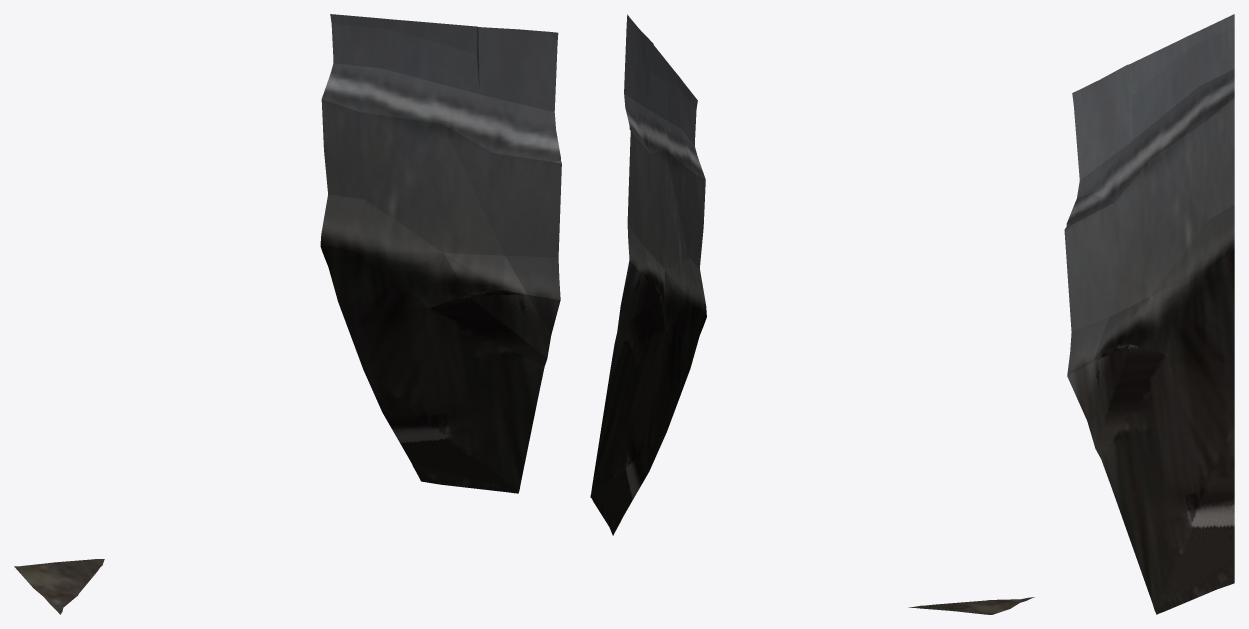
3 renders of one model, left to right at view 1: azimuth 30°, elevation 25°; view 2: azimuth 150°, elevation 25°; view 3: azimuth 270°, elevation 25°, orthographic. The views are drawn at different scales.
Size of the model in its own units: 0.8374 by 0.8373 by 0.2473.
Materials: 1 (1 with a texture image).
